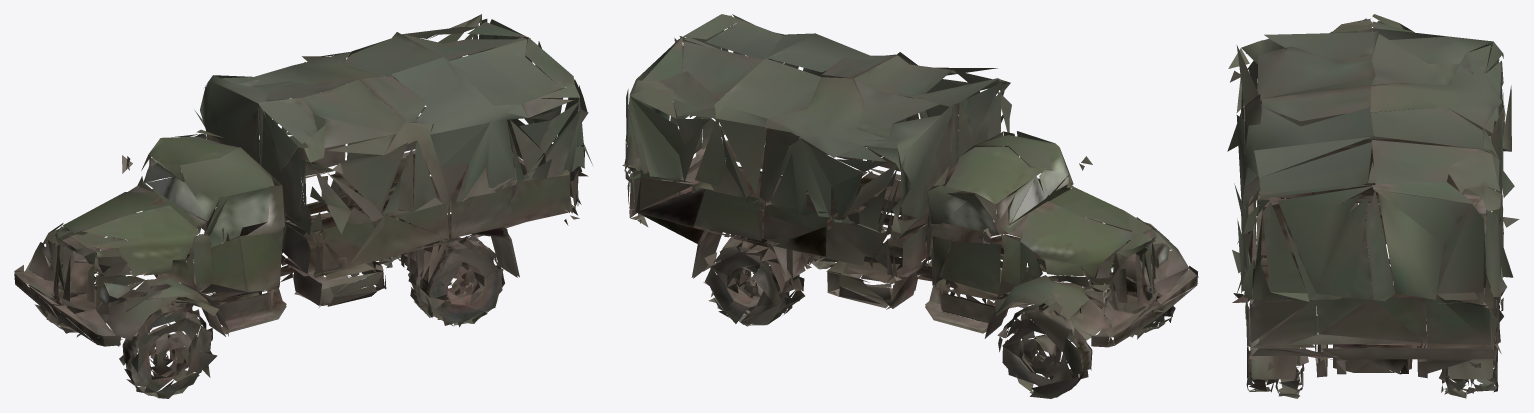
Rendered from truck_cargo.glb.
The picture shows the model from 3 angles, left to right: view 1: azimuth 30°, elevation 25°; view 2: azimuth 150°, elevation 25°; view 3: azimuth 270°, elevation 25°; orthographic projection. The views are drawn at different scales.
Parts seen in each view (by area): view 1: Mesh_0; view 2: Mesh_0; view 3: Mesh_0.
Boxes of the visible parts, left/top/right/bottom form: Mesh_0: left=14, top=14, right=593, bottom=398; Mesh_0: left=622, top=14, right=1198, bottom=398; Mesh_0: left=1227, top=14, right=1519, bottom=398.
Size of the model in its own units: 1.91 by 0.8606 by 0.8215.
Materials: 1 (1 with a texture image).
